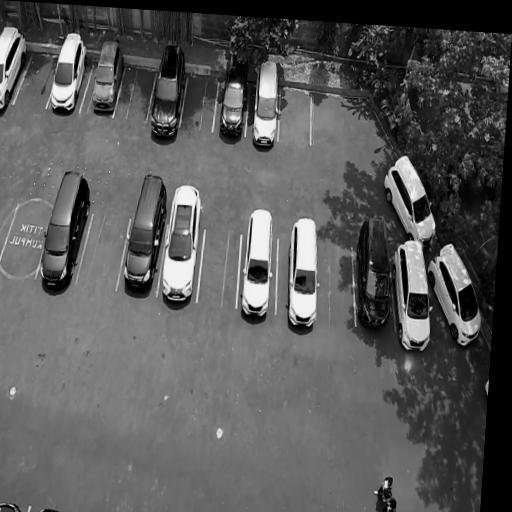Car: (425, 230, 490, 354), (33, 166, 97, 291), (156, 178, 205, 311), (381, 146, 442, 252), (119, 169, 169, 294), (352, 211, 398, 329), (282, 212, 324, 340), (237, 201, 278, 330), (392, 233, 434, 357), (46, 22, 94, 118), (147, 37, 189, 145), (215, 37, 253, 141), (246, 50, 283, 155), (87, 34, 128, 115), (0, 22, 33, 113), (0, 497, 27, 512), (36, 502, 71, 512)
Space Available: (77, 214, 129, 288), (196, 227, 241, 308), (0, 206, 51, 277), (317, 242, 355, 325), (112, 64, 157, 123), (180, 70, 219, 133), (13, 54, 59, 107), (278, 85, 313, 145), (0, 204, 17, 259)
